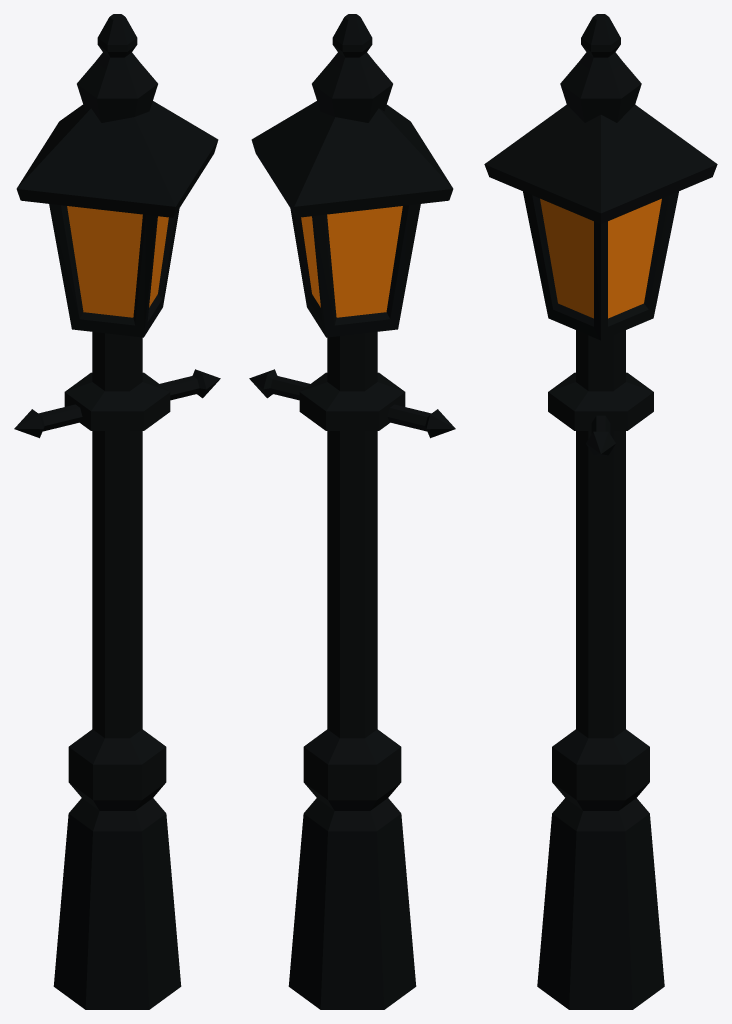
The model's file is lampPost.obj.
3 views of the same model, side by side, from view 1: azimuth 30°, elevation 25°; view 2: azimuth 150°, elevation 25°; view 3: azimuth 270°, elevation 25° (orthographic).
Parts seen in each view (by area): view 1: lampPost_Cylinder.033; view 2: lampPost_Cylinder.033; view 3: lampPost_Cylinder.033.
Part boxes in pixels (x1,y1,x2,y2): lampPost_Cylinder.033: (14, 14, 220, 1009); lampPost_Cylinder.033: (249, 14, 455, 1009); lampPost_Cylinder.033: (484, 14, 717, 1009).
Size of the model in its own units: 0.6702 by 3 by 0.6541.
